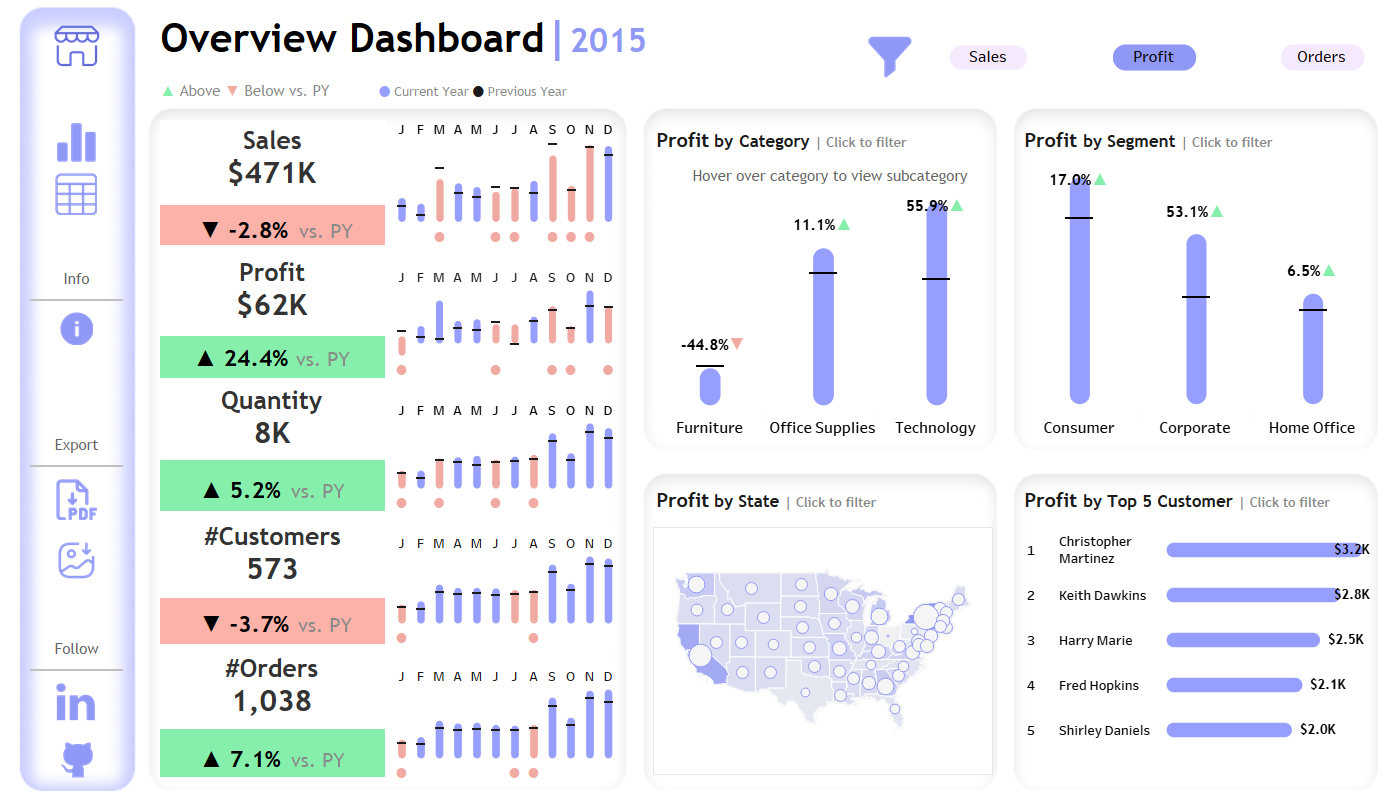

The dashboard page shown, as its layout file describes it:
{"tool":"tableau","page":{"name":"Overview","canvas":[1400,800],"ordinal":1},"visuals":[{"type":"image","param":"Image/Overview Background.png","box":[0,0,1400,800]},{"type":"text","box":[153,0,547,113]},{"type":"blank","box":[700,0,146,113]},{"type":"worksheet","title":"Metric Swap","mark":"Shape","cols":["Calculation_1212875741125902337","Calculation_1212875741125861376","Calculation_1212875741125951490"],"box":[846,0,544,113]},{"type":"blank","box":[1390,0,10,113]},{"type":"image","param":"Image/Overview Information.png","box":[140,1,1258,798]},{"type":"image","param":"Image/store.png","box":[20,20,113,50.7]},{"type":"dashboard-object","box":[864,27,51,57]},{"type":"parameter","param":"[Parameters].[Parameter 1]","box":[673,28,74,67]},{"type":"parameter","param":"[Parameters].[Parameter 3]","box":[747,28,115,67]},{"type":"blank","box":[20,70.7,113,50.7]},{"type":"worksheet","title":"Sales kpi text","mark":"Text","box":[156,116,233,85]},{"type":"worksheet","title":"Sales kpi Line","mark":"Line","rows":["CY Sales (copy)_1434396547047215108"],"cols":["Order Date","Calculation_1434396547068669995"],"box":[389,116,232,133]},{"type":"text","box":[649,118,348,45]},{"type":"text","box":[1017,118,358,45]},{"type":"dashboard-object","box":[20,121.5,113,42]},{"type":"text","box":[649,163,348,26]},{"type":"worksheet","title":"Metric By Segment","mark":"Line","rows":["Metric Swap Calc (CY) (copy)_502151424310472705"],"cols":["Segment"],"box":[1017,163,358,295]},{"type":"blank","box":[20,163.5,113,10]},{"type":"dashboard-object","box":[20,173.5,113,42]},{"type":"worksheet","title":"Metric By Category","mark":"Line","rows":["Metric Swap Calc (CY) (copy)_502151424310472705"],"cols":["Category"],"box":[649,189,348,269]},{"type":"worksheet","title":"Sales kpi Color","mark":"Square","box":[156,201,233,48]},{"type":"blank","box":[20,215.5,113,50.7]},{"type":"worksheet","title":"Profits kpi","mark":"Text","box":[156,249,233,83]},{"type":"worksheet","title":"Profits kpi Line","mark":"Line","rows":["CY Profit (copy)_1434396547050618891"],"cols":["Order Date","Calculation_1434396547070779437"],"box":[389,249,232,133]},{"type":"text","box":[20,266.2,113,26]},{"type":"blank","box":[20,292.2,113,16]},{"type":"dashboard-object","box":[20,308.2,113,41]},{"type":"worksheet","title":"Profits kpi Color","mark":"Square","box":[156,332,233,50]},{"type":"blank","box":[20,349.3,113,32]},{"type":"blank","box":[20,381.3,113,50.7]},{"type":"worksheet","title":"Quantity kpi","mark":"Text","box":[156,382,233,74]},{"type":"worksheet","title":"Quantity kpi Line","mark":"Line","rows":["CY Quantity (copy)_1434396547053137938"],"cols":["Order Date","Calculation_1434396547070169132"],"box":[389,382,232,133]},{"type":"text","box":[20,432,113,26]},{"type":"worksheet","title":"Quantity kpi Color","mark":"Square","box":[156,456,233,59]},{"type":"blank","box":[20,458,113,16]},{"type":"dashboard-object","box":[20,474,113,50.7]},{"type":"text","box":[649,478,348,45]},{"type":"text","box":[1017,478,358,45]},{"type":"worksheet","title":"Customers kpi","mark":"Text","box":[156,515,233,79]},{"type":"worksheet","title":"Customers kpi Line","mark":"Line","rows":["CY Customers (copy)_1434396547060551709"],"cols":["Order Date","Calculation_1434396547071336495"],"box":[389,515,232,133]},{"type":"worksheet","title":"Map","mark":"Automatic","box":[649,523,348,256]},{"type":"worksheet","title":"Top N Customers","mark":"Line","rows":["Calculation_479633426389733385","Customer Name"],"box":[1017,523,358,241]},{"type":"blank","box":[20,524.7,113,10]},{"type":"dashboard-object","box":[20,534.7,113,50.7]},{"type":"blank","box":[20,585.5,113,50.7]},{"type":"worksheet","title":"Customers kpi Color","mark":"Square","box":[156,594,233,54]},{"type":"text","box":[20,636.2,113,26]},{"type":"worksheet","title":"Orders kpi","mark":"Text","box":[156,648,233,77]},{"type":"worksheet","title":"Orders kpi Line","mark":"Line","rows":["CY Orders (copy)_1434396547064279077"],"cols":["Order Date","Calculation_1434396547071807536"],"box":[389,648,232,133]},{"type":"blank","box":[20,662.2,113,16]},{"type":"image","param":"Image/linkedin.png","box":[20,678.2,113,50.7]},{"type":"worksheet","title":"Orders kpi Color","mark":"Square","box":[156,725,233,56]},{"type":"blank","box":[20,729,113,10]},{"type":"image","param":"Image/github.png","box":[20,739,113,41]}]}

Visuals, with their boxes in screenshot pixels (x1, y1, x2, y2), scaled from the page's 1400x800 canvas onto the 1400x800 screenshot:
image: x1=0 y1=0 x2=1399 y2=799
text: x1=153 y1=0 x2=700 y2=113
blank: x1=700 y1=0 x2=846 y2=113
"Metric Swap" worksheet (Shape marks): x1=846 y1=0 x2=1390 y2=113
blank: x1=1390 y1=0 x2=1399 y2=113
image: x1=140 y1=1 x2=1398 y2=799
image: x1=20 y1=20 x2=133 y2=71
dashboard-object: x1=864 y1=27 x2=915 y2=84
parameter: x1=673 y1=28 x2=747 y2=95
parameter: x1=747 y1=28 x2=862 y2=95
blank: x1=20 y1=71 x2=133 y2=121
"Sales kpi text" worksheet (Text marks): x1=156 y1=116 x2=389 y2=201
"Sales kpi Line" worksheet (Line marks): x1=389 y1=116 x2=621 y2=249
text: x1=649 y1=118 x2=997 y2=163
text: x1=1017 y1=118 x2=1375 y2=163
dashboard-object: x1=20 y1=122 x2=133 y2=164
text: x1=649 y1=163 x2=997 y2=189
"Metric By Segment" worksheet (Line marks): x1=1017 y1=163 x2=1375 y2=458
blank: x1=20 y1=164 x2=133 y2=174
dashboard-object: x1=20 y1=174 x2=133 y2=216
"Metric By Category" worksheet (Line marks): x1=649 y1=189 x2=997 y2=458
"Sales kpi Color" worksheet (Square marks): x1=156 y1=201 x2=389 y2=249
blank: x1=20 y1=216 x2=133 y2=266
"Profits kpi" worksheet (Text marks): x1=156 y1=249 x2=389 y2=332
"Profits kpi Line" worksheet (Line marks): x1=389 y1=249 x2=621 y2=382
text: x1=20 y1=266 x2=133 y2=292
blank: x1=20 y1=292 x2=133 y2=308
dashboard-object: x1=20 y1=308 x2=133 y2=349
"Profits kpi Color" worksheet (Square marks): x1=156 y1=332 x2=389 y2=382
blank: x1=20 y1=349 x2=133 y2=381
blank: x1=20 y1=381 x2=133 y2=432
"Quantity kpi" worksheet (Text marks): x1=156 y1=382 x2=389 y2=456
"Quantity kpi Line" worksheet (Line marks): x1=389 y1=382 x2=621 y2=515
text: x1=20 y1=432 x2=133 y2=458
"Quantity kpi Color" worksheet (Square marks): x1=156 y1=456 x2=389 y2=515
blank: x1=20 y1=458 x2=133 y2=474
dashboard-object: x1=20 y1=474 x2=133 y2=525
text: x1=649 y1=478 x2=997 y2=523
text: x1=1017 y1=478 x2=1375 y2=523
"Customers kpi" worksheet (Text marks): x1=156 y1=515 x2=389 y2=594
"Customers kpi Line" worksheet (Line marks): x1=389 y1=515 x2=621 y2=648
"Map" worksheet: x1=649 y1=523 x2=997 y2=779
"Top N Customers" worksheet (Line marks): x1=1017 y1=523 x2=1375 y2=764
blank: x1=20 y1=525 x2=133 y2=535
dashboard-object: x1=20 y1=535 x2=133 y2=585
blank: x1=20 y1=586 x2=133 y2=636
"Customers kpi Color" worksheet (Square marks): x1=156 y1=594 x2=389 y2=648
text: x1=20 y1=636 x2=133 y2=662
"Orders kpi" worksheet (Text marks): x1=156 y1=648 x2=389 y2=725
"Orders kpi Line" worksheet (Line marks): x1=389 y1=648 x2=621 y2=781
blank: x1=20 y1=662 x2=133 y2=678
image: x1=20 y1=678 x2=133 y2=729
"Orders kpi Color" worksheet (Square marks): x1=156 y1=725 x2=389 y2=781
blank: x1=20 y1=729 x2=133 y2=739
image: x1=20 y1=739 x2=133 y2=780
